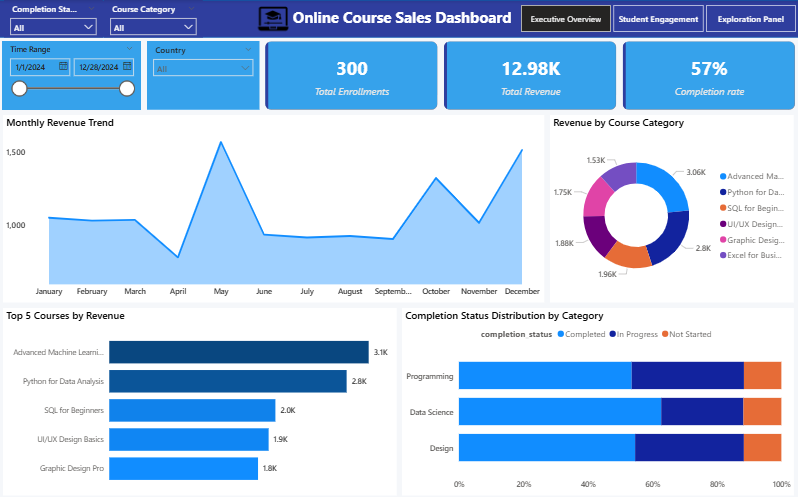

Layout of this report page (visuals, bound fields, positions):
{"tool":"powerbi","page":{"name":"Executive Overview","canvas":[1280,800],"ordinal":0},"visuals":[{"type":"shape","box":[0,0,1280,60],"z":0},{"type":"textbox","box":[457,6.7,375,46.7],"z":1000},{"type":"cardVisual","fields":{"Data":["_Measures.Total Enrollments","_Measures.Total Revenue","_Measures.Completion rate"]},"box":[420,60,860,120],"z":2000},{"type":"lineChart","title":"Monthly Revenue Trend","fields":{"Category":["enrollments.enroll_date.Variation.Date Hierarchy.Month"],"Y":["_Measures.Total Revenue"]},"box":[6.7,183.3,866,300],"z":3000},{"type":"donutChart","title":"Revenue by Course Category","fields":{"Y":["_Measures.Total Revenue"],"Category":["courses.course_name"]},"box":[881.7,183.3,390,300],"z":4000},{"type":"barChart","title":"Top 5 Courses by Revenue","fields":{"Y":["_Measures.Total Revenue"],"Category":["courses.course_name"]},"box":[6.7,493.3,630,300],"z":5000},{"type":"hundredPercentStackedBarChart","title":"Completion Status Distribution by Category","fields":{"Y":["_Measures.% of Students"],"Series":["enrollments.completion_status"],"Category":["courses.category"]},"box":[645,493.3,627,300],"z":6000},{"type":"image","box":[405.3,0,68.3,60],"z":7000},{"type":"slicer","fields":{"Values":["courses.category"]},"box":[168.3,0,158.3,60],"z":8000},{"type":"slicer","fields":{"Values":["enrollments.enroll_date"]},"box":[5,65,221.7,110],"z":9000},{"type":"slicer","fields":{"Values":["students.country"]},"box":[236.7,65,180,110],"z":10000},{"type":"slicer","fields":{"Values":["enrollments.completion_status"]},"box":[8.3,0,158.3,60],"z":11000},{"type":"pageNavigator","box":[835,8.3,440,43.3],"z":12000}]}

Visuals, with their boxes in screenshot pixels (x1, y1, x2, y2), scaled from the page's 1280x800 canvas onto the 798x497 screenshot:
shape: select_region(0, 0, 797, 37)
textbox: select_region(285, 4, 519, 33)
cardVisual - _Measures.Total Enrollments x _Measures.Total Revenue: select_region(262, 37, 797, 112)
"Monthly Revenue Trend" lineChart: select_region(4, 114, 544, 300)
"Revenue by Course Category" donutChart: select_region(550, 114, 793, 300)
"Top 5 Courses by Revenue" barChart: select_region(4, 306, 397, 493)
"Completion Status Distribution by Category" hundredPercentStackedBarChart: select_region(402, 306, 793, 493)
image: select_region(253, 0, 295, 37)
slicer - courses.category: select_region(105, 0, 204, 37)
slicer - enrollments.enroll_date: select_region(3, 40, 141, 109)
slicer - students.country: select_region(148, 40, 260, 109)
slicer - enrollments.completion_status: select_region(5, 0, 104, 37)
pageNavigator: select_region(521, 5, 795, 32)
